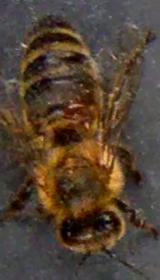varroa_mite: (61, 92, 96, 135)
